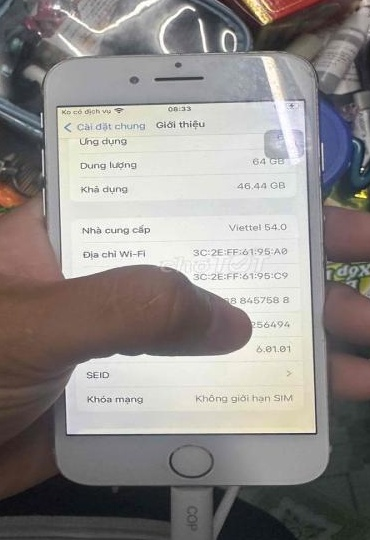scratch: (216, 48, 316, 107), (51, 50, 194, 69)
